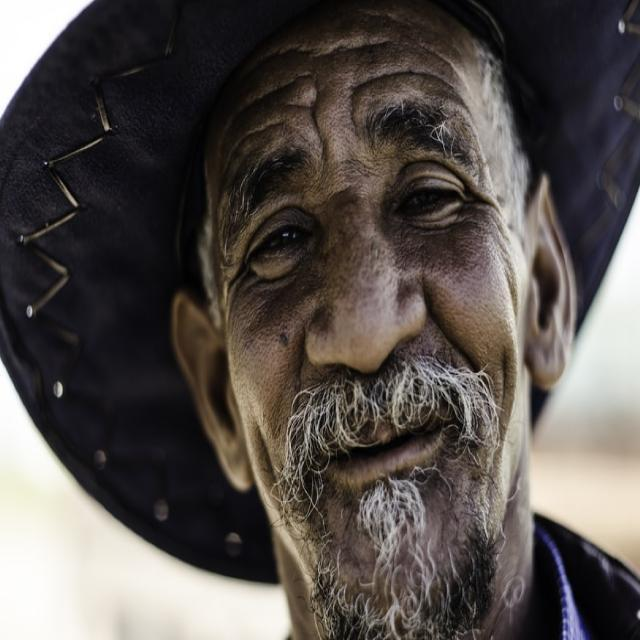wrinkle: (352, 70, 448, 128), (220, 120, 283, 188), (224, 84, 288, 150), (311, 41, 389, 55), (313, 114, 326, 148), (463, 79, 474, 99), (421, 45, 440, 56), (404, 34, 421, 45), (440, 56, 455, 68)
